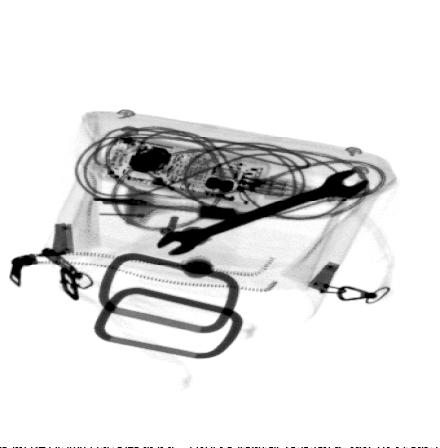Wrench: (156, 168, 372, 257)
